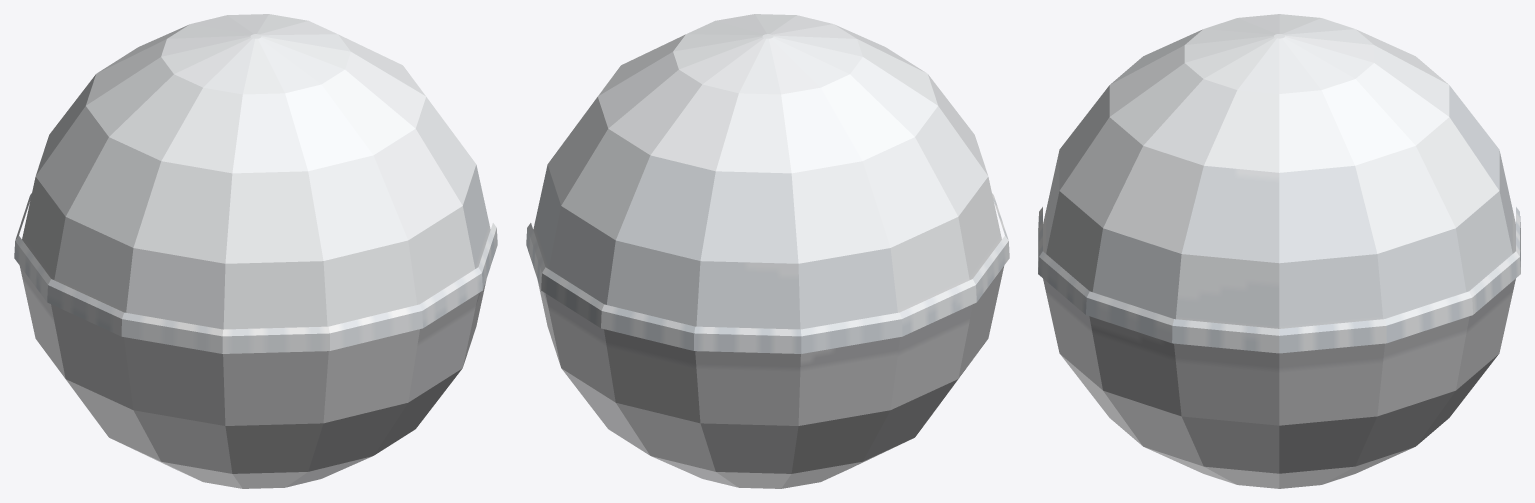
3 views of the same model, side by side, from view 1: azimuth 30°, elevation 25°; view 2: azimuth 150°, elevation 25°; view 3: azimuth 270°, elevation 25° (orthographic).
Visible parts, largest first — view 1: top_lo, bottom_lo; view 2: top_lo, bottom_lo; view 3: top_lo, bottom_lo.
Boxes of the visible parts, x1,y1,x2,y2 form: top_lo: [14, 14, 497, 353]; bottom_lo: [20, 266, 486, 488]; top_lo: [526, 14, 1009, 353]; bottom_lo: [537, 266, 1003, 488]; top_lo: [1038, 14, 1520, 353]; bottom_lo: [1043, 278, 1515, 488].
Bounding box in the file's own units: 0.066 × 0.065 × 0.066.
Materials: 2 (2 with a texture image).
